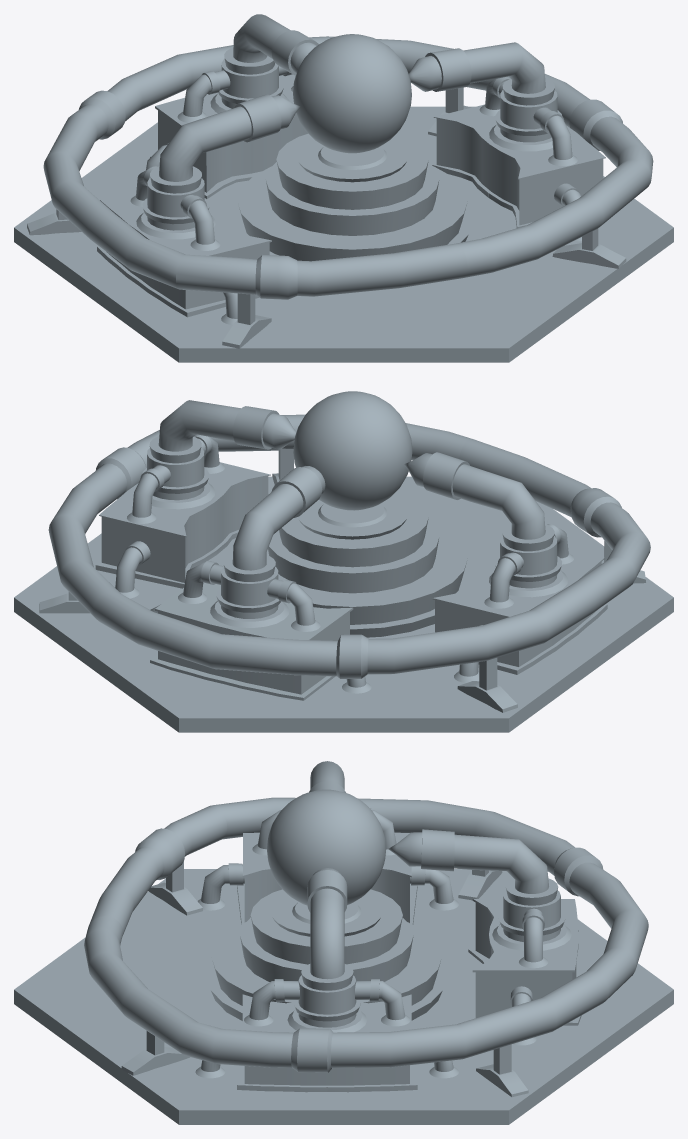
The model's file is iron_curtain_red_alert_2.glb.
3 views of the same model, one above another, from view 1: azimuth 30°, elevation 25°; view 2: azimuth 150°, elevation 25°; view 3: azimuth 270°, elevation 25° (orthographic).
Parts seen in each view (by area): view 1: foundation-platform, perimeter-frame, emitter-array, field-core, generator-conduits; view 2: foundation-platform, perimeter-frame, emitter-array, field-core, generator-conduits; view 3: foundation-platform, perimeter-frame, emitter-array, field-core, generator-conduits.
Boxes of the visible parts, left/top/right/bottom form: foundation-platform: left=14, top=74, right=673, bottom=362; perimeter-frame: left=27, top=36, right=653, bottom=348; emitter-array: left=136, top=14, right=561, bottom=239; field-core: left=293, top=34, right=411, bottom=153; generator-conduits: left=130, top=66, right=581, bottom=324; foundation-platform: left=14, top=462, right=673, bottom=732; perimeter-frame: left=39, top=414, right=650, bottom=712; emitter-array: left=142, top=400, right=567, bottom=627; field-core: left=293, top=391, right=412, bottom=510; generator-conduits: left=115, top=434, right=573, bottom=693; foundation-platform: left=14, top=832, right=673, bottom=1124; perimeter-frame: left=84, top=797, right=648, bottom=1097; emitter-array: left=287, top=761, right=571, bottom=1032; field-core: left=267, top=789, right=386, bottom=905; generator-conduits: left=195, top=808, right=548, bottom=1078.
Size of the model in its own units: 5.12 by 2 by 5.71.
